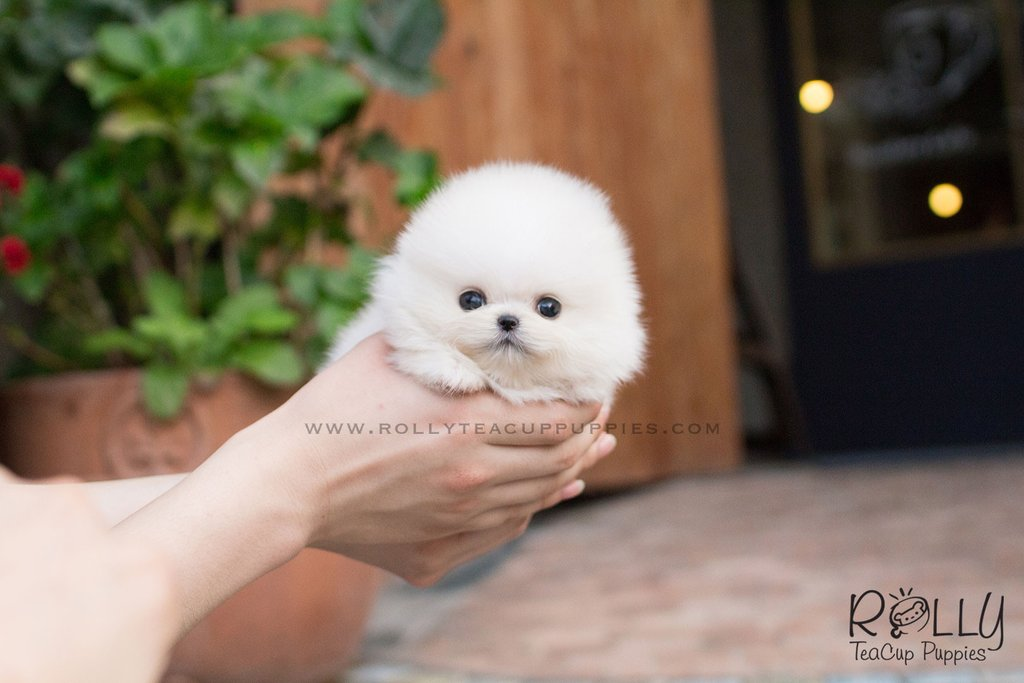pomeranian: (308, 150, 668, 400)
